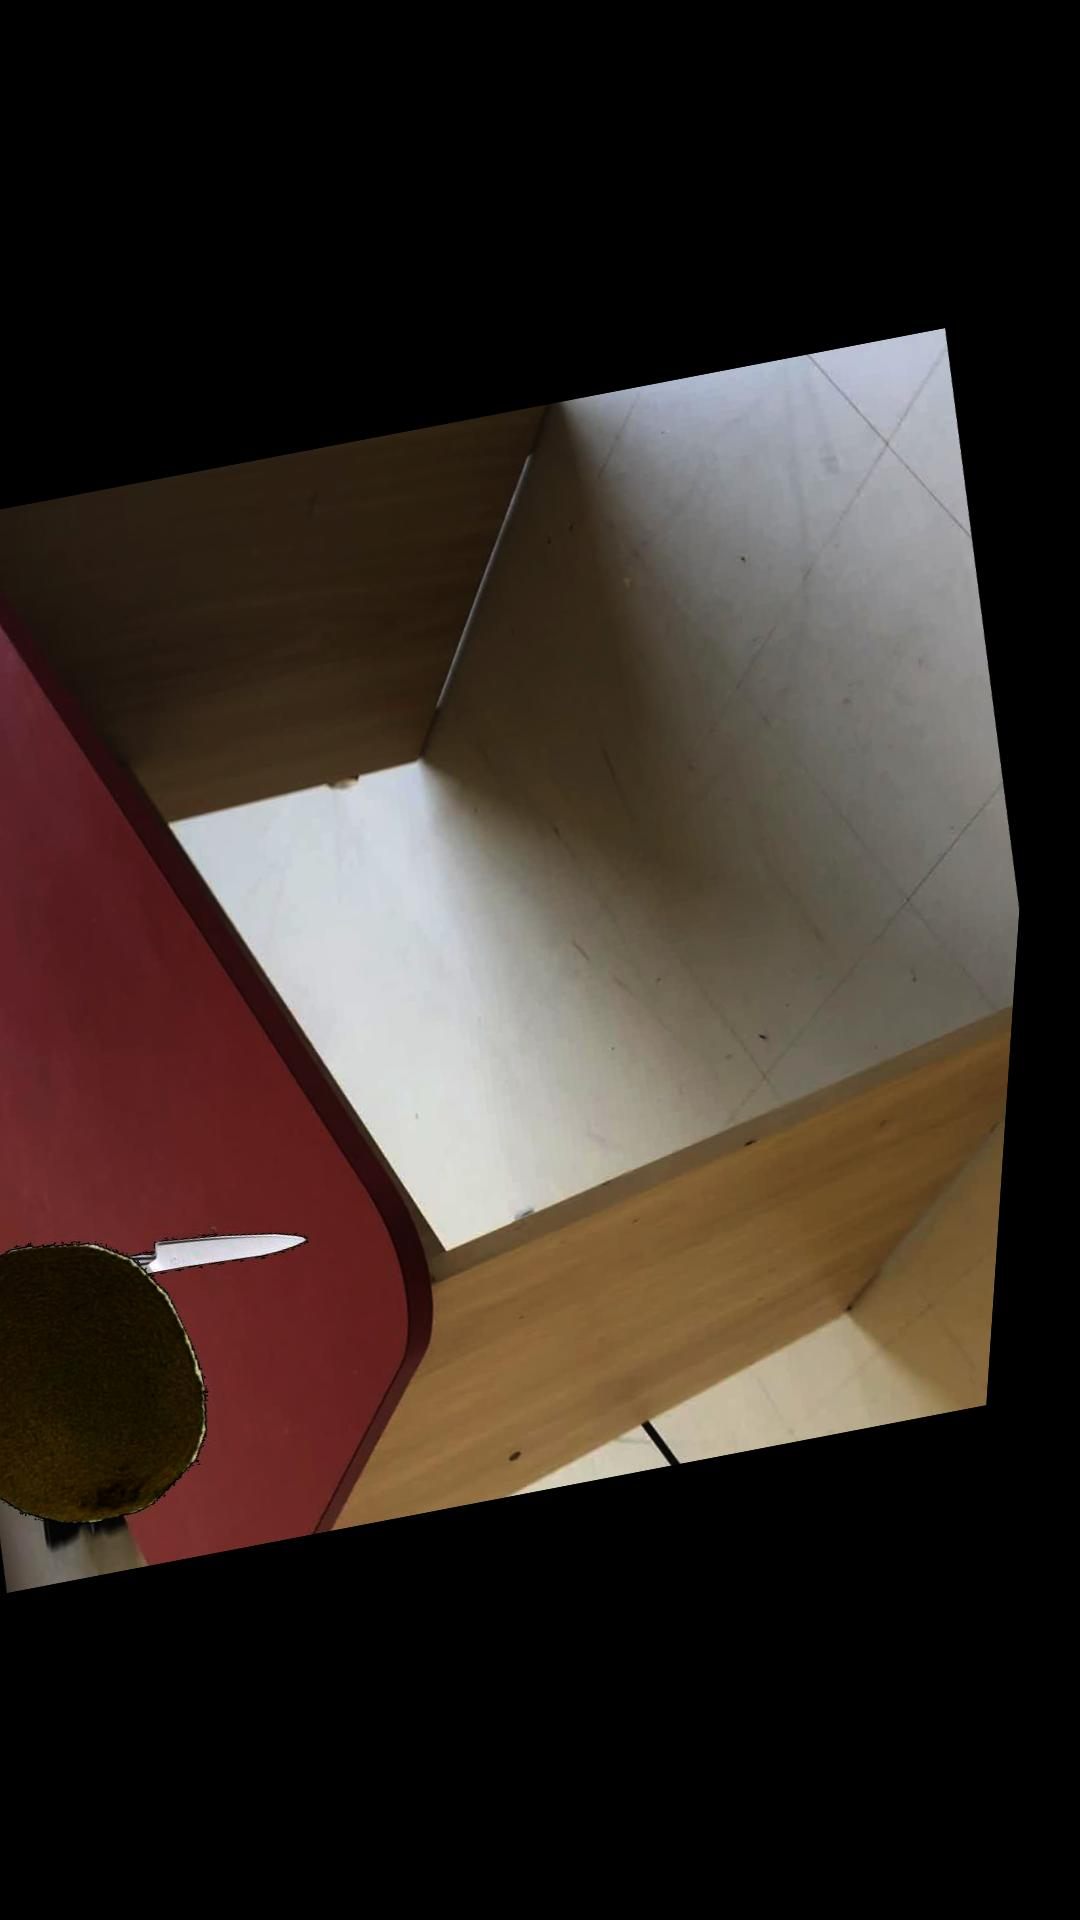kiwi: (0, 1244, 227, 1526)
knife: (144, 1233, 323, 1275)
